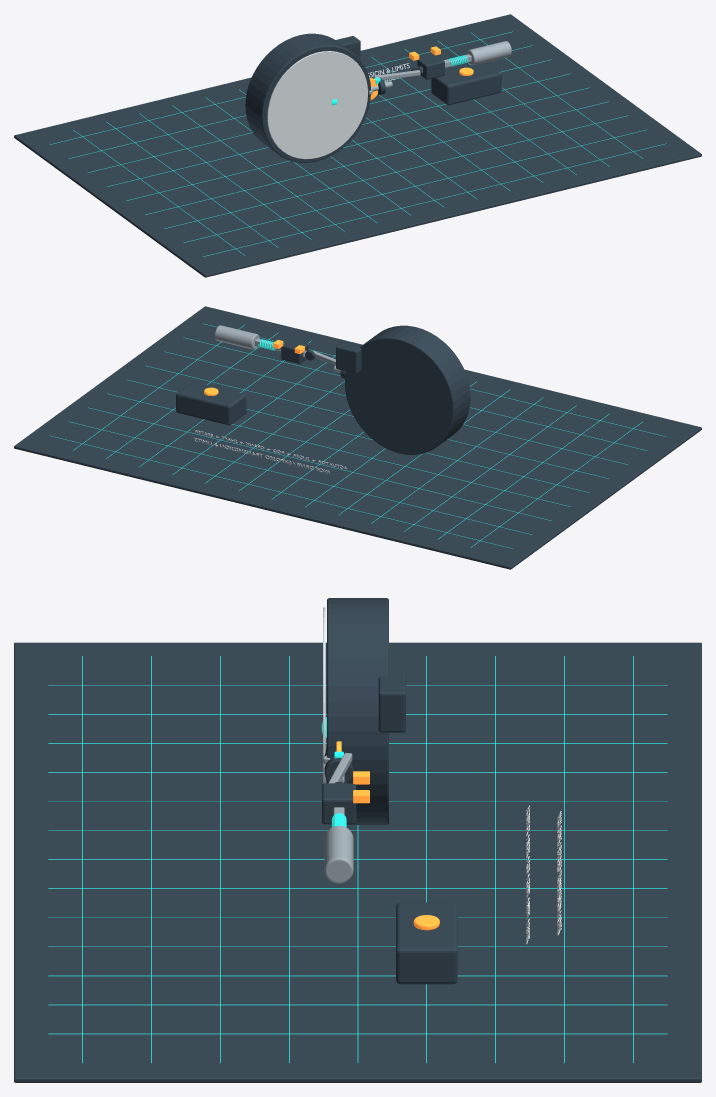
The model's file is kick_drive_mechanical_v2.glb.
The picture shows the model from 3 angles, top to bottom: view 1: azimuth 30°, elevation 25°; view 2: azimuth 150°, elevation 25°; view 3: azimuth 270°, elevation 25°; orthographic projection. The views are drawn at different scales.
Visible parts, largest first — view 1: Floor, Drum head, Drum shell, Controller bay, Actuator body, Slider carriage, Grid.014, Grid.013, Grid.016, Grid.015; view 2: Floor, Drum shell, Controller bay, Hoop clamp, Actuator body, Slider carriage, Grid.020, Grid.021, Grid.019; view 3: Floor, Drum shell, Controller bay, Hoop clamp, Actuator body, Grid.011, Grid.012, Slider carriage, Grid.010.
Boxes of the visible parts, x1=… form: Floor: x1=14, y1=14, x2=701, y2=277; Drum head: x1=267, y1=51, x2=367, y2=159; Drum shell: x1=245, y1=33, x2=370, y2=162; Controller bay: x1=431, y1=62, x2=501, y2=105; Actuator body: x1=466, y1=41, x2=511, y2=65; Slider carriage: x1=417, y1=55, x2=444, y2=79; Grid.014: x1=183, y1=129, x2=646, y2=242; Grid.013: x1=202, y1=143, x2=666, y2=256; Grid.016: x1=145, y1=101, x2=608, y2=214; Grid.015: x1=164, y1=115, x2=627, y2=228; Floor: x1=14, y1=306, x2=701, y2=569; Drum shell: x1=345, y1=325, x2=470, y2=454; Controller bay: x1=176, y1=381, x2=246, y2=425; Hoop clamp: x1=336, y1=342, x2=361, y2=373; Actuator body: x1=214, y1=325, x2=259, y2=349; Slider carriage: x1=281, y1=339, x2=308, y2=363; Grid.020: x1=69, y1=421, x2=532, y2=534; Grid.021: x1=49, y1=435, x2=513, y2=548; Grid.019: x1=88, y1=407, x2=551, y2=520; Floor: x1=14, y1=642, x2=701, y2=1082; Drum shell: x1=327, y1=598, x2=388, y2=824; Controller bay: x1=396, y1=902, x2=457, y2=984; Hoop clamp: x1=378, y1=675, x2=405, y2=732; Actuator body: x1=324, y1=825, x2=353, y2=883; Grid.011: x1=48, y1=1004, x2=667, y2=1005; Grid.012: x1=48, y1=1033, x2=667, y2=1034; Slider carriage: x1=322, y1=783, x2=356, y2=824; Grid.010: x1=48, y1=975, x2=667, y2=976.
Bounding box in the file's own units: 30 × 6.83 × 20.
